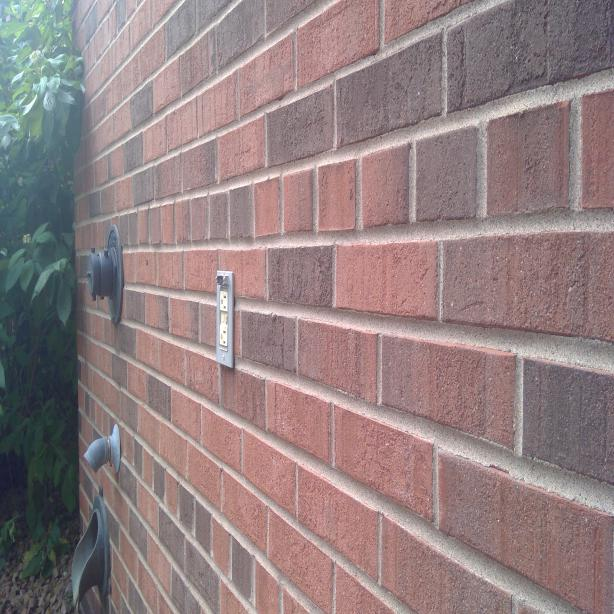typeb: (218, 328, 228, 347), (220, 293, 228, 310)
